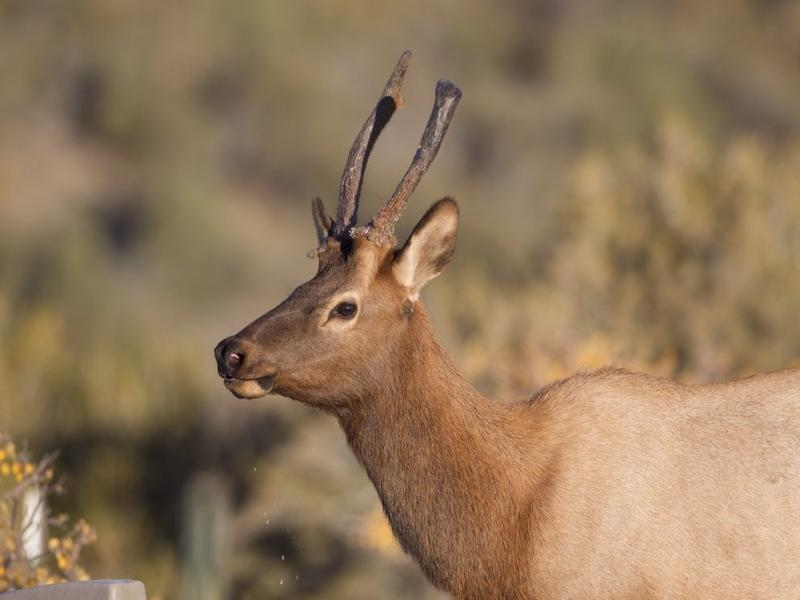elk: (213, 72, 800, 600)
